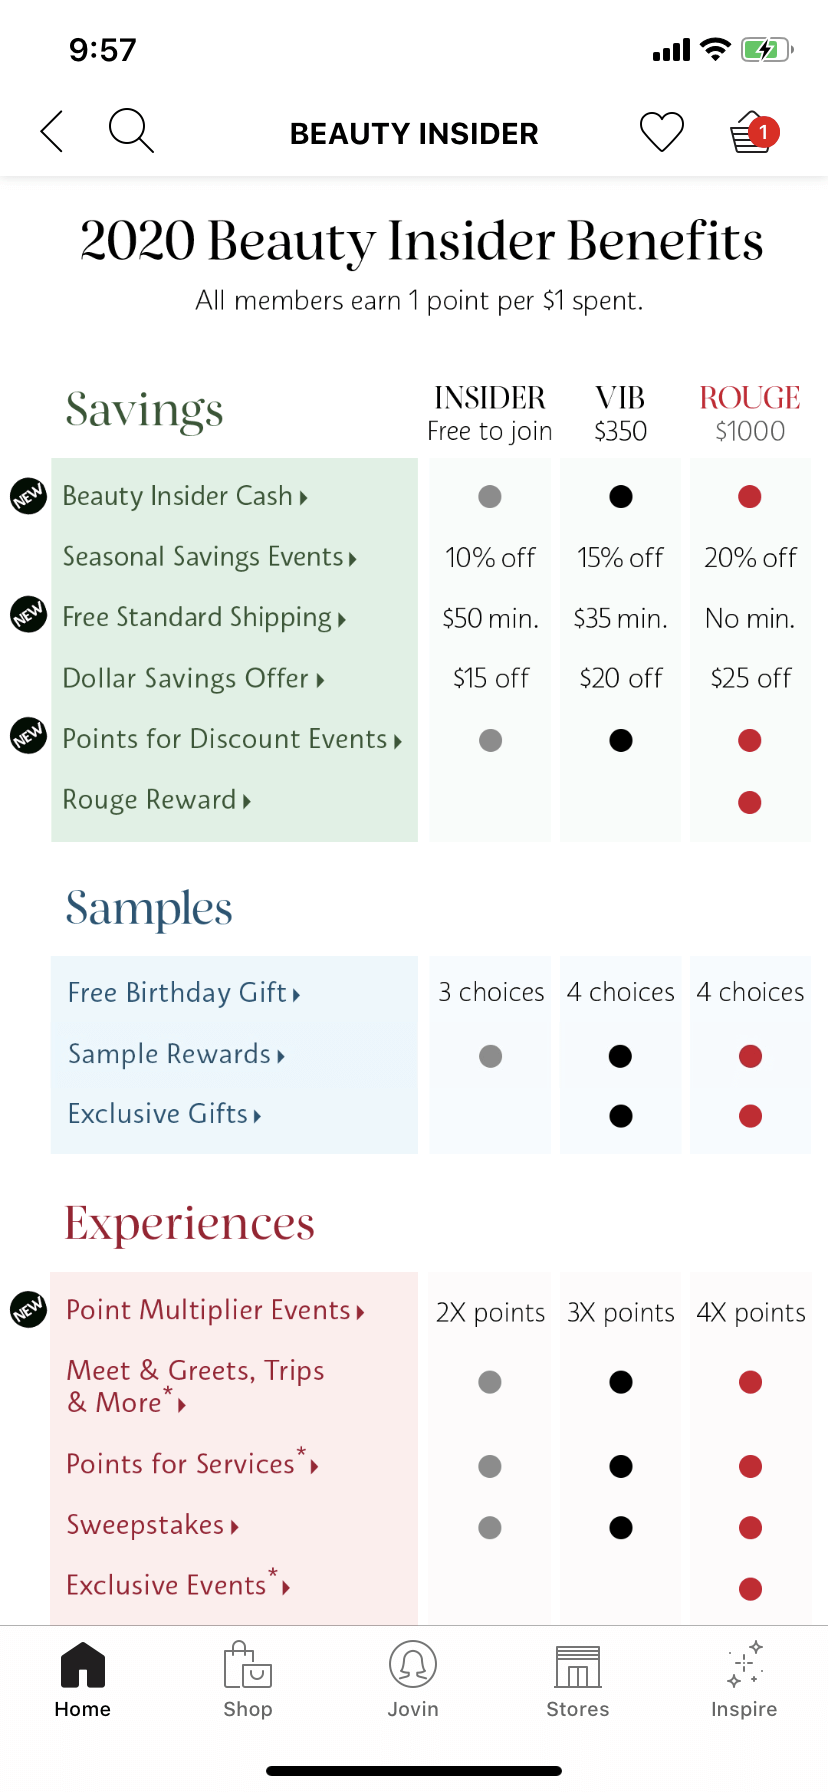Buttons: (614, 80, 700, 168), (94, 78, 172, 170), (11, 78, 83, 171), (714, 79, 789, 167)
